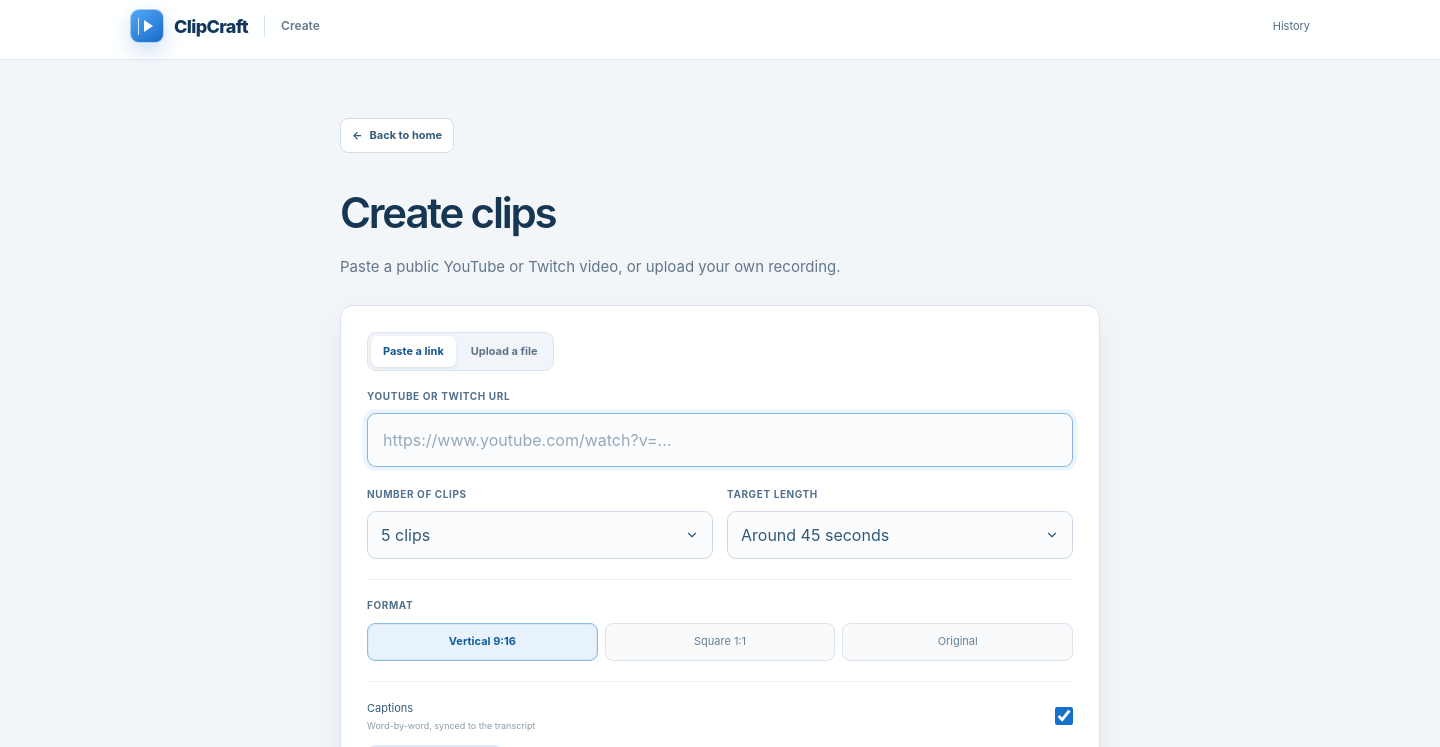
Test: create page › rejects an unsupported URL before submitting
Type "https://example.com/video" into the field with placeholder "https://www.youtube.com/watch?v=..." at (720, 440), box x1=367 y1=412 x2=1073 y2=466
(page scrolled)
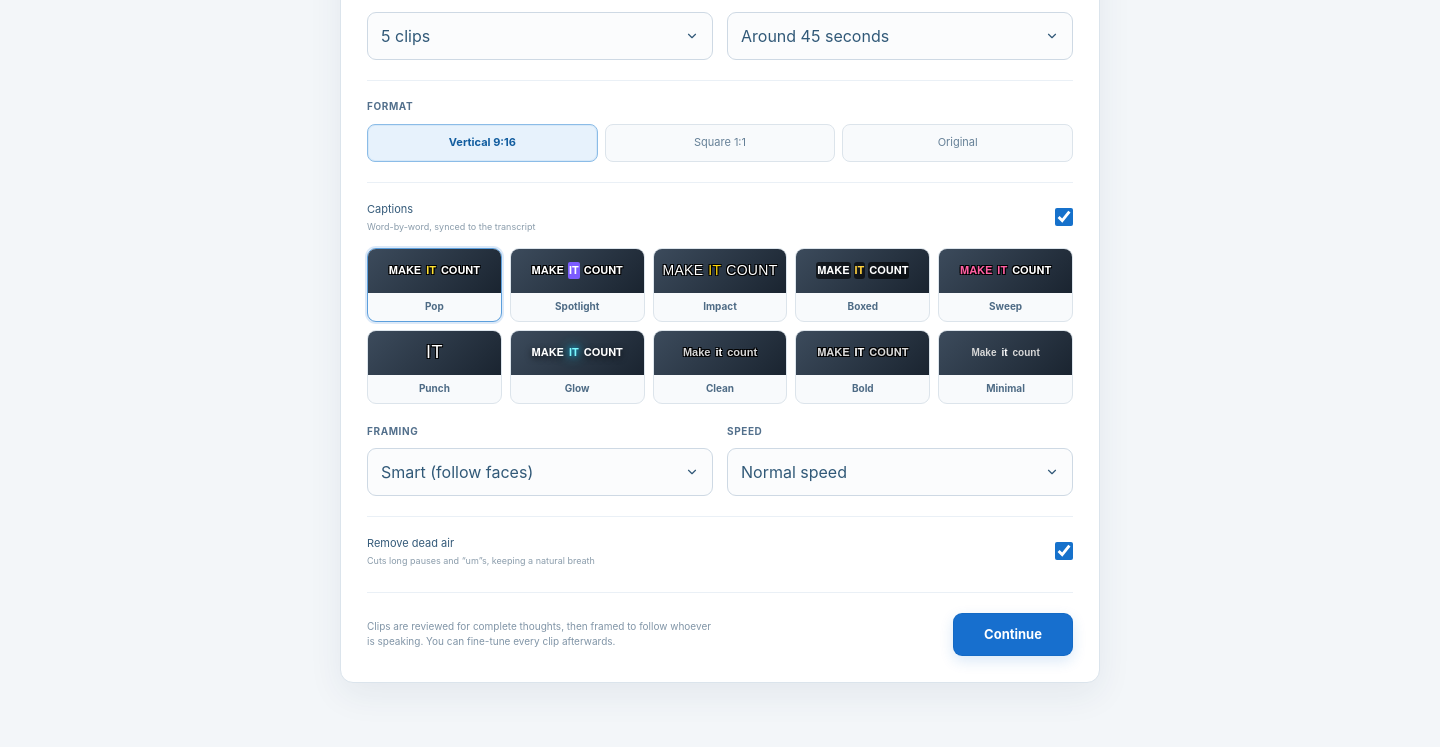
Click the button "Continue" at (1013, 634), box x1=953 y1=612 x2=1073 y2=656
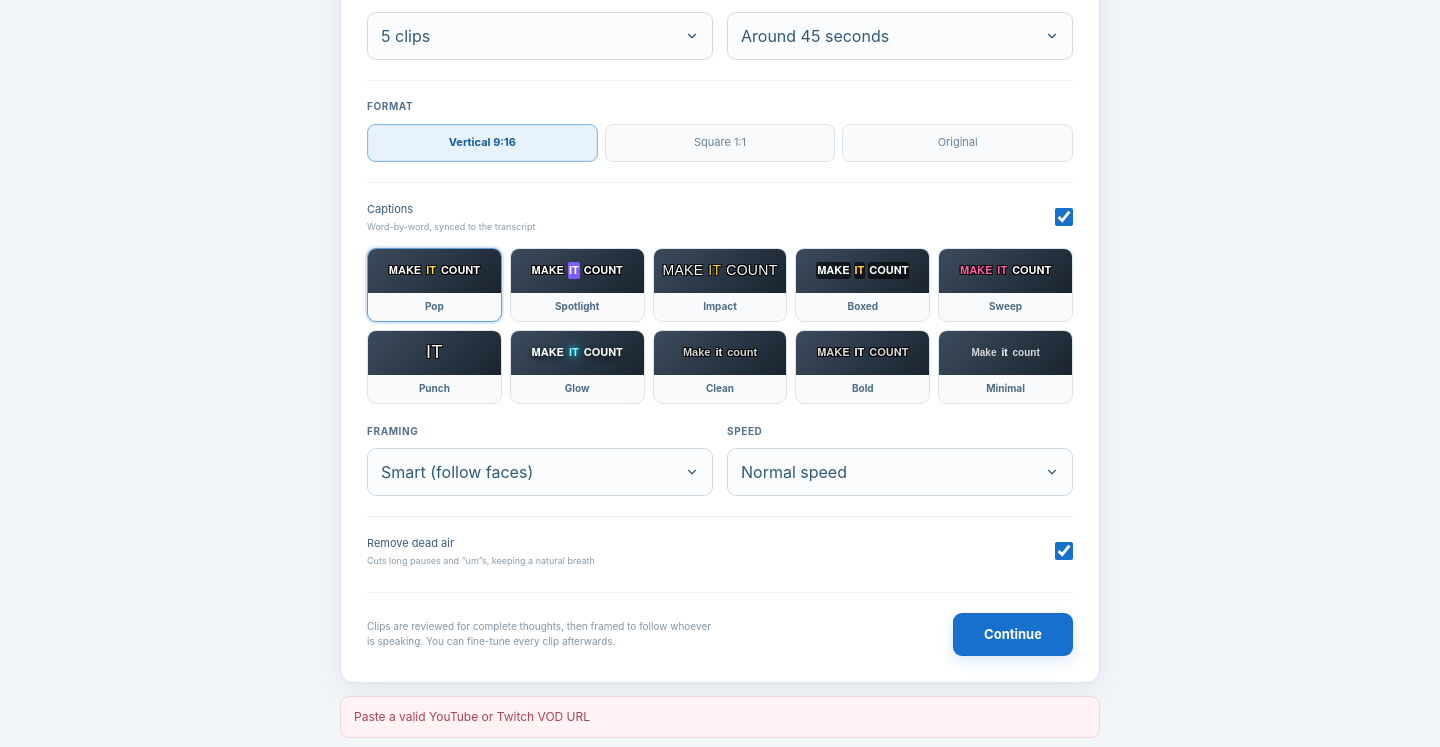
Check: the text "Paste a valid YouTube or Twitch VOD URL" is shown, box x1=340 y1=696 x2=1100 y2=738
